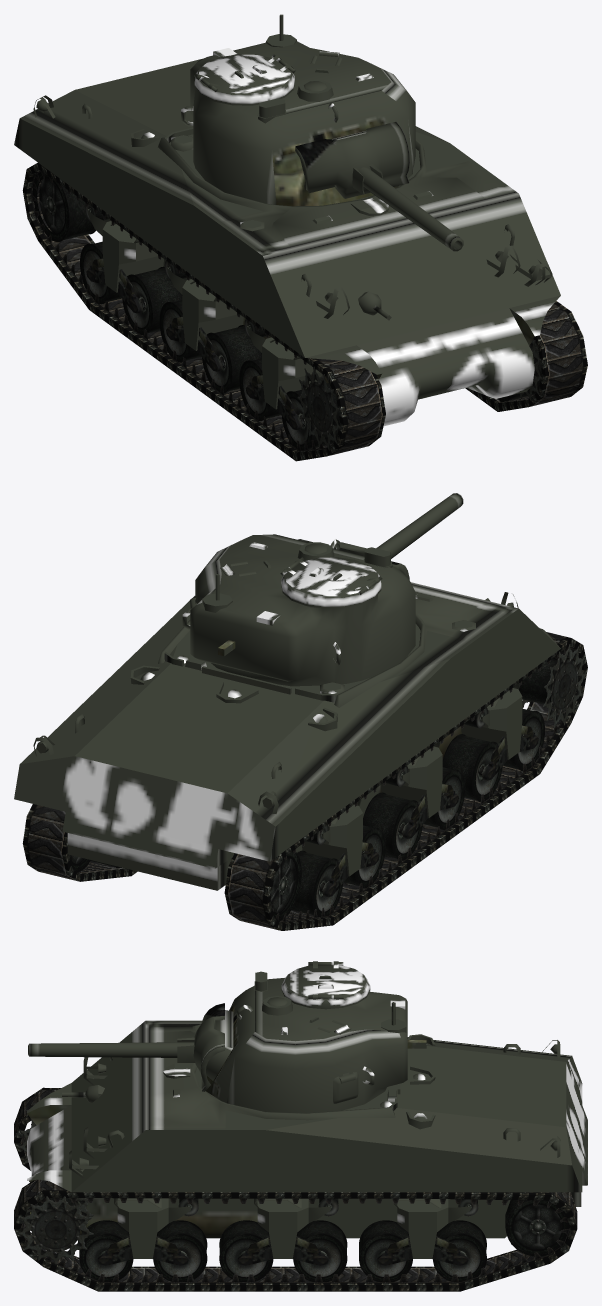
File: M4A3_model_track.FBX
3 renders of one model, top to bottom at view 1: azimuth 30°, elevation 25°; view 2: azimuth 150°, elevation 25°; view 3: azimuth 270°, elevation 25°, orthographic. The views are drawn at different scales.
Visible parts, largest first — view 1: body, Righttrack, turret, cannon, Lefttrack; view 2: body, turret, Righttrack, Lefttrack, cannon; view 3: body, Lefttrack, turret, cannon, Righttrack.
Boxes of the visible parts, <box> form: body: <box>14,59,560,429</box>; Righttrack: <box>22,163,385,461</box>; turret: <box>181,14,415,206</box>; cannon: <box>295,122,463,251</box>; Lefttrack: <box>465,301,587,411</box>; body: <box>14,582,560,897</box>; turret: <box>182,534,415,686</box>; Righttrack: <box>224,632,587,930</box>; Lefttrack: <box>22,804,137,881</box>; cannon: <box>298,493,463,579</box>; body: <box>27,1020,587,1265</box>; Lefttrack: <box>14,1179,577,1291</box>; turret: <box>206,961,426,1113</box>; cannon: <box>28,1003,224,1091</box>; Righttrack: <box>14,1087,60,1170</box>.
Size of the model in its own units: 2.63 by 2.79 by 5.81.
